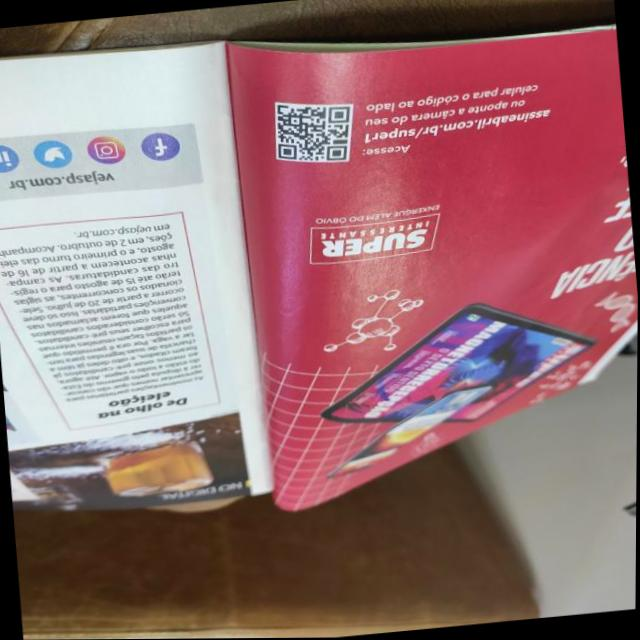qrcode: (274, 98, 354, 166)
